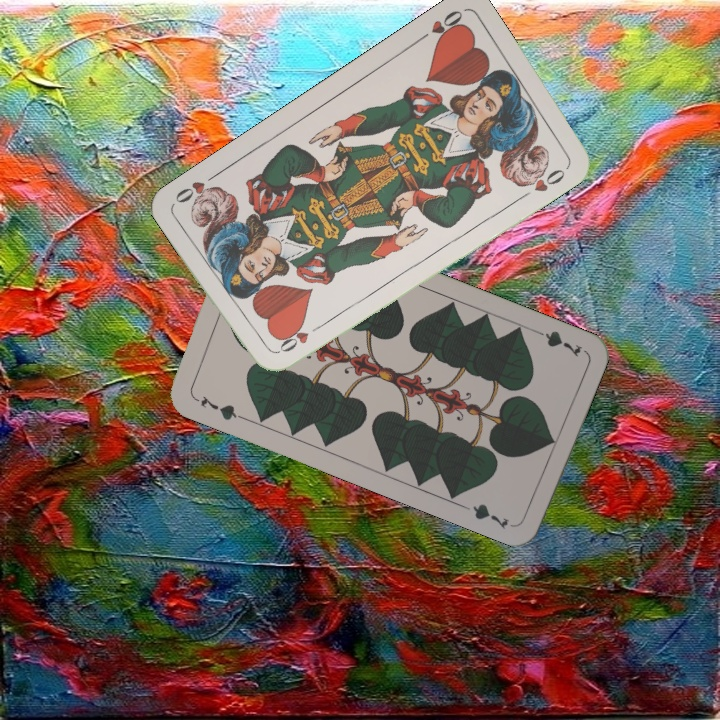G7: (528, 325, 584, 360), (189, 391, 246, 423)
HO: (413, 6, 466, 45), (273, 320, 326, 357)
